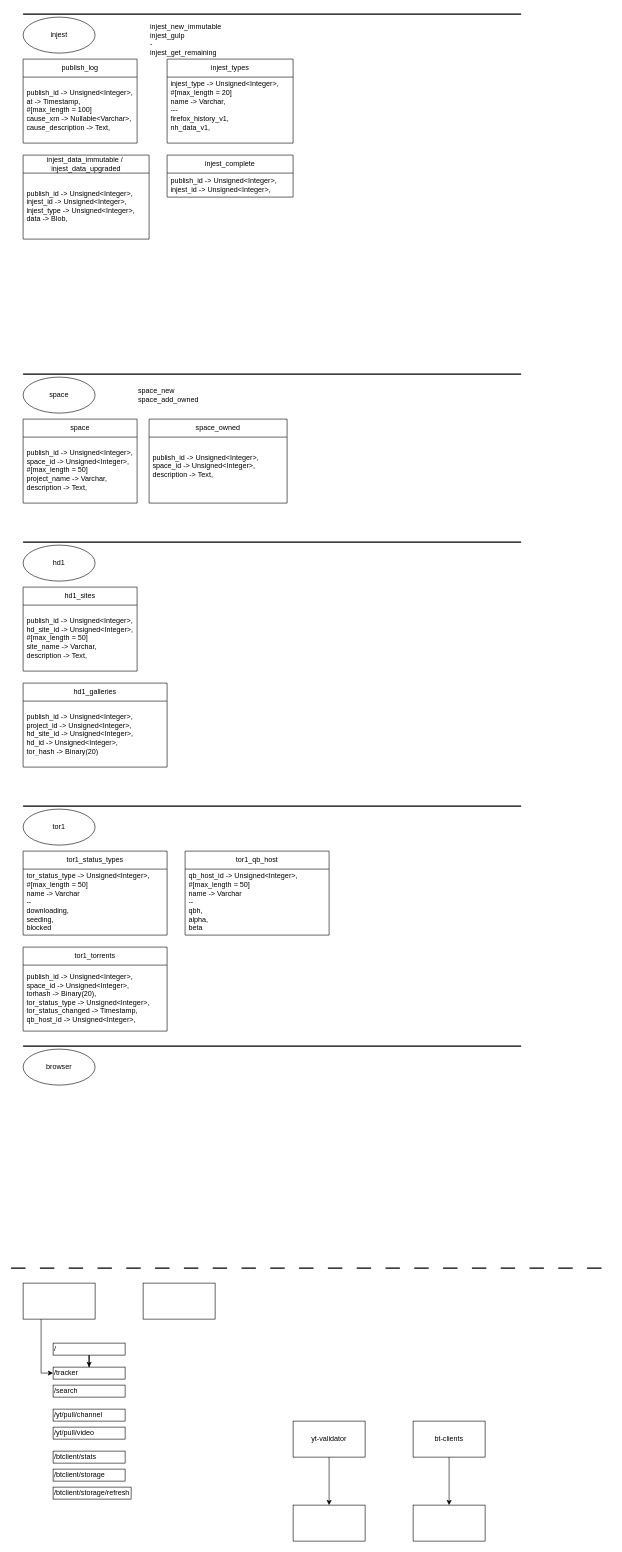
The diagram is 622 pixels wide and 1552 high, and some of its shapes have lost their labels. The shapes that lost their labels are listed below. From the top down, each one's centre as x and y in pixels, then its label:
the point at 58,1300: frontend
the point at 178,1300: tube-hose
